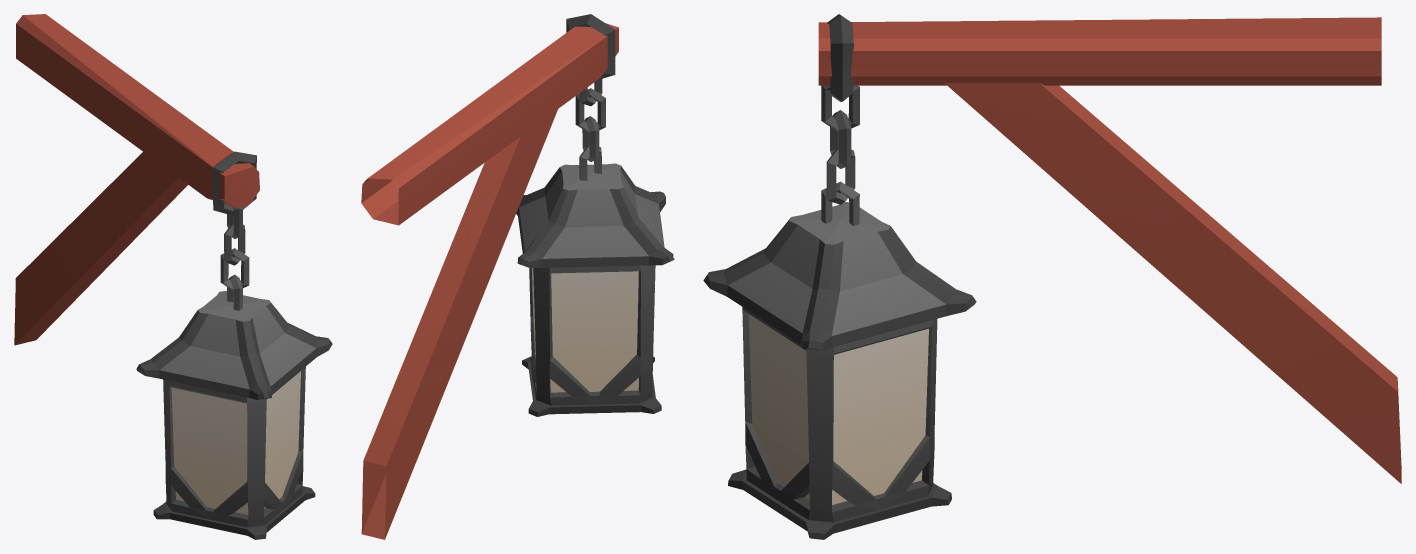
Rendered from Lantern_Wall.fbx.
The picture shows the model from 3 angles, left to right: view 1: azimuth 30°, elevation 25°; view 2: azimuth 150°, elevation 25°; view 3: azimuth 270°, elevation 25°; orthographic projection. The views are drawn at different scales.
Parts seen in each view (by area): view 1: Lantern_Wall; view 2: Lantern_Wall; view 3: Lantern_Wall.
Part boxes in pixels (<box>): Lantern_Wall: <box>14,14,332,539</box>; Lantern_Wall: <box>361,14,674,539</box>; Lantern_Wall: <box>703,14,1401,539</box>.
Size of the model in its own units: 0.567 by 1.12 by 1.45.
